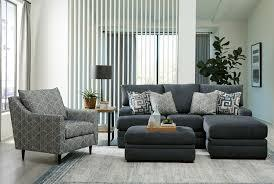chair: (6, 89, 97, 163)
light: (89, 66, 117, 105)
sofa: (114, 83, 269, 159)
table: (123, 124, 197, 164), (84, 104, 116, 146)
